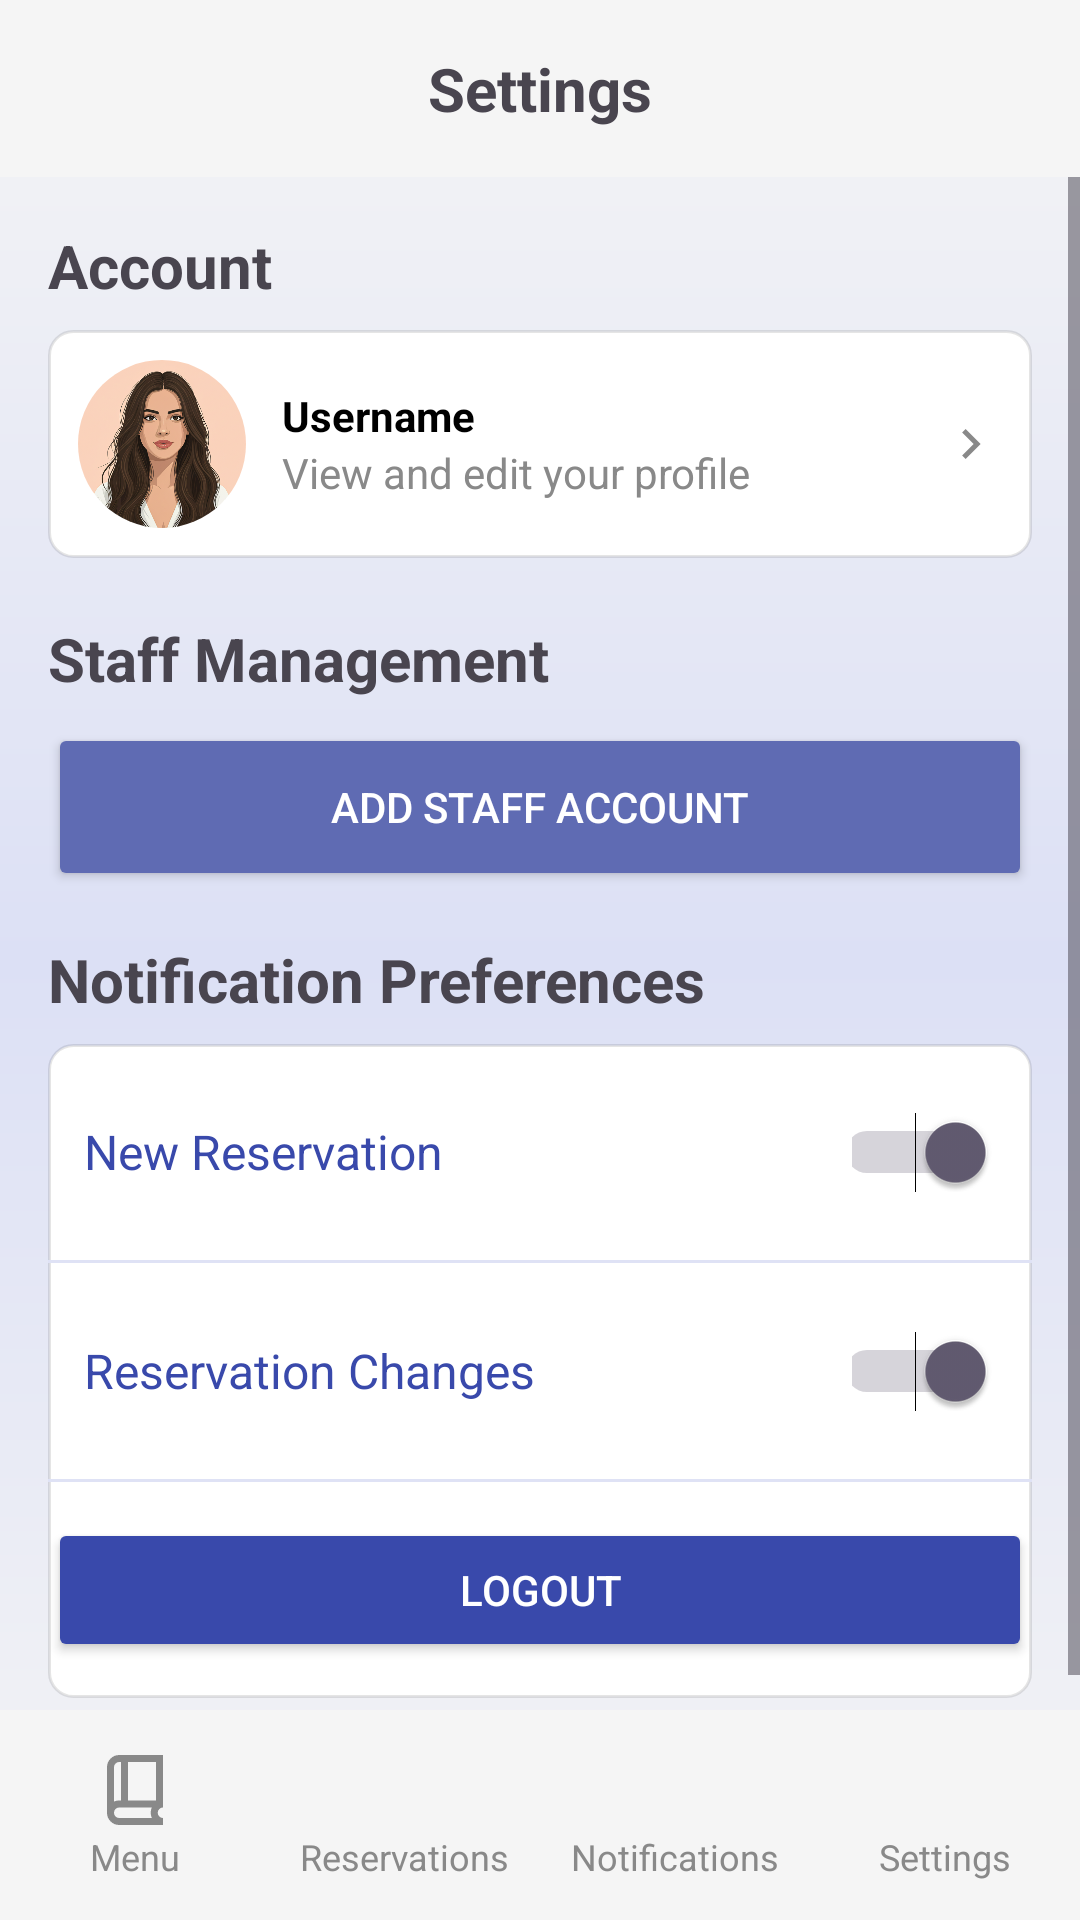

Screen size 1080px×1920px. Icon name, then its box in pixels as (x1, y1, x2, y2):
arrow right: (962, 429, 980, 459)
